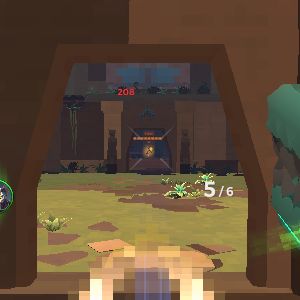model: (147, 145, 153, 157)
